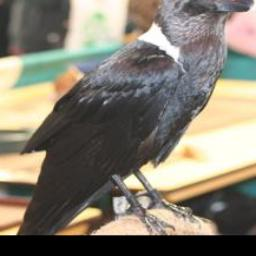Crow: (15, 0, 256, 234)
